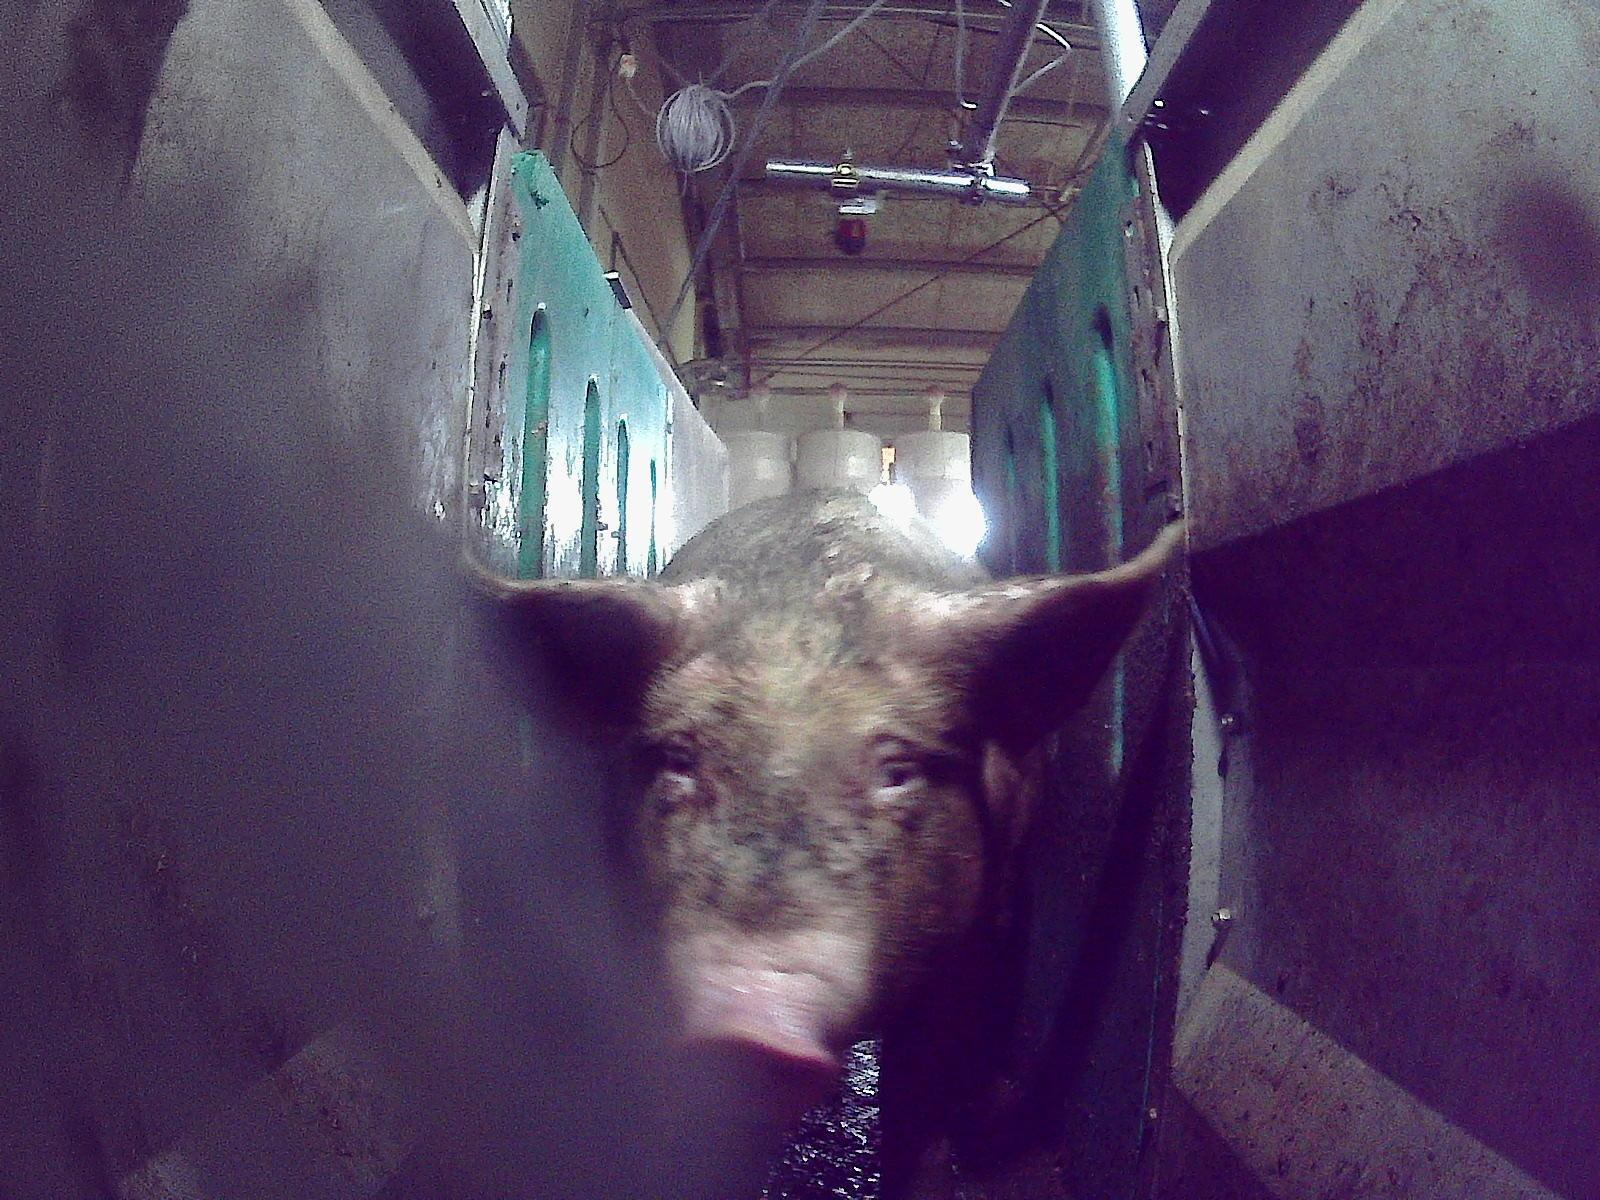Face: (629, 608, 981, 1124)
